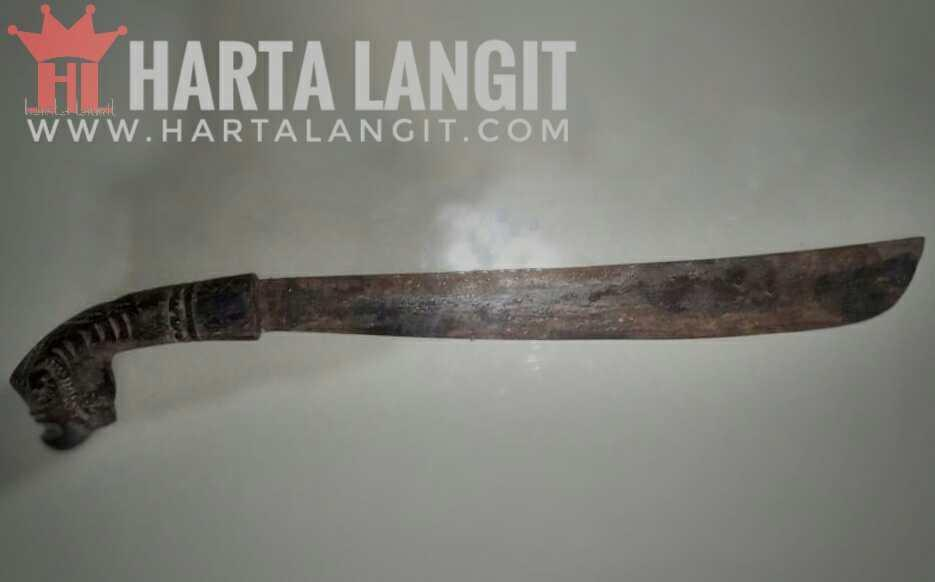facao: (10, 237, 924, 449)
